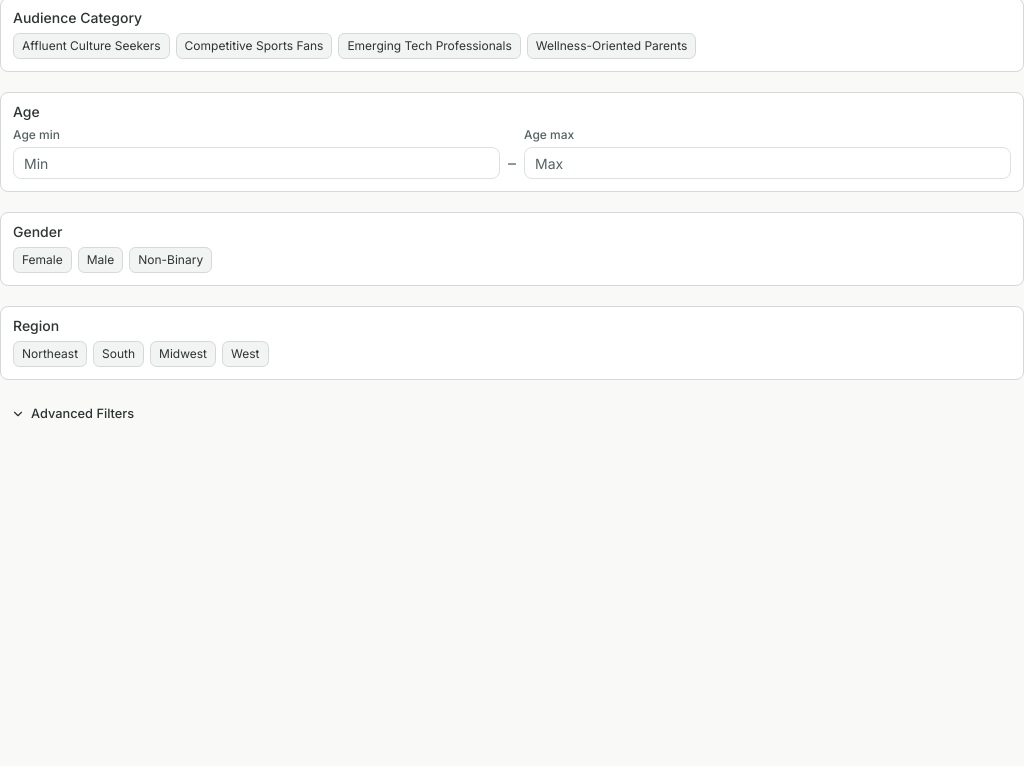
Test: FilterControls › shows advanced filters after clicking toggle
This screenshot has width=1024, height=766.
What coordinates should you click on to do the following:
click the button "Advanced Filters"
I would click on:
 (73, 414)
Its box is [0,400,145,428].
(page scrolled)
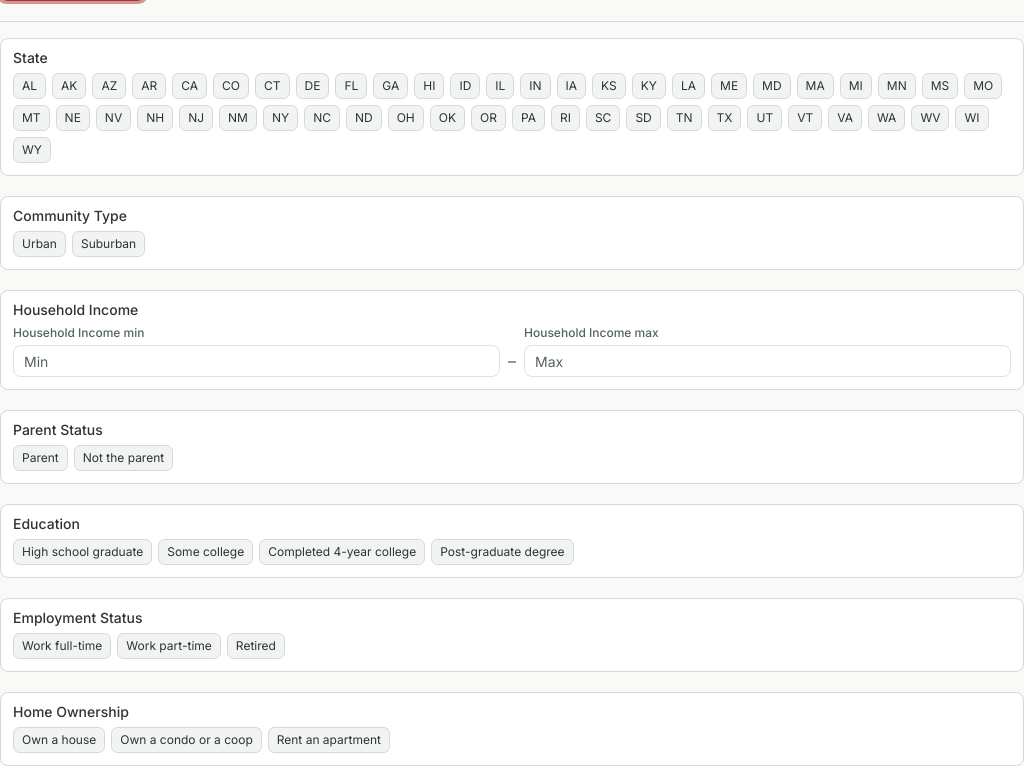
Check: the text "Community Type" is shown, box [13,207,127,224]
Check: the text "Household Income" is shown, box [13,301,138,318]
Check: the text "Parent Status" is shown, box [13,421,103,438]
